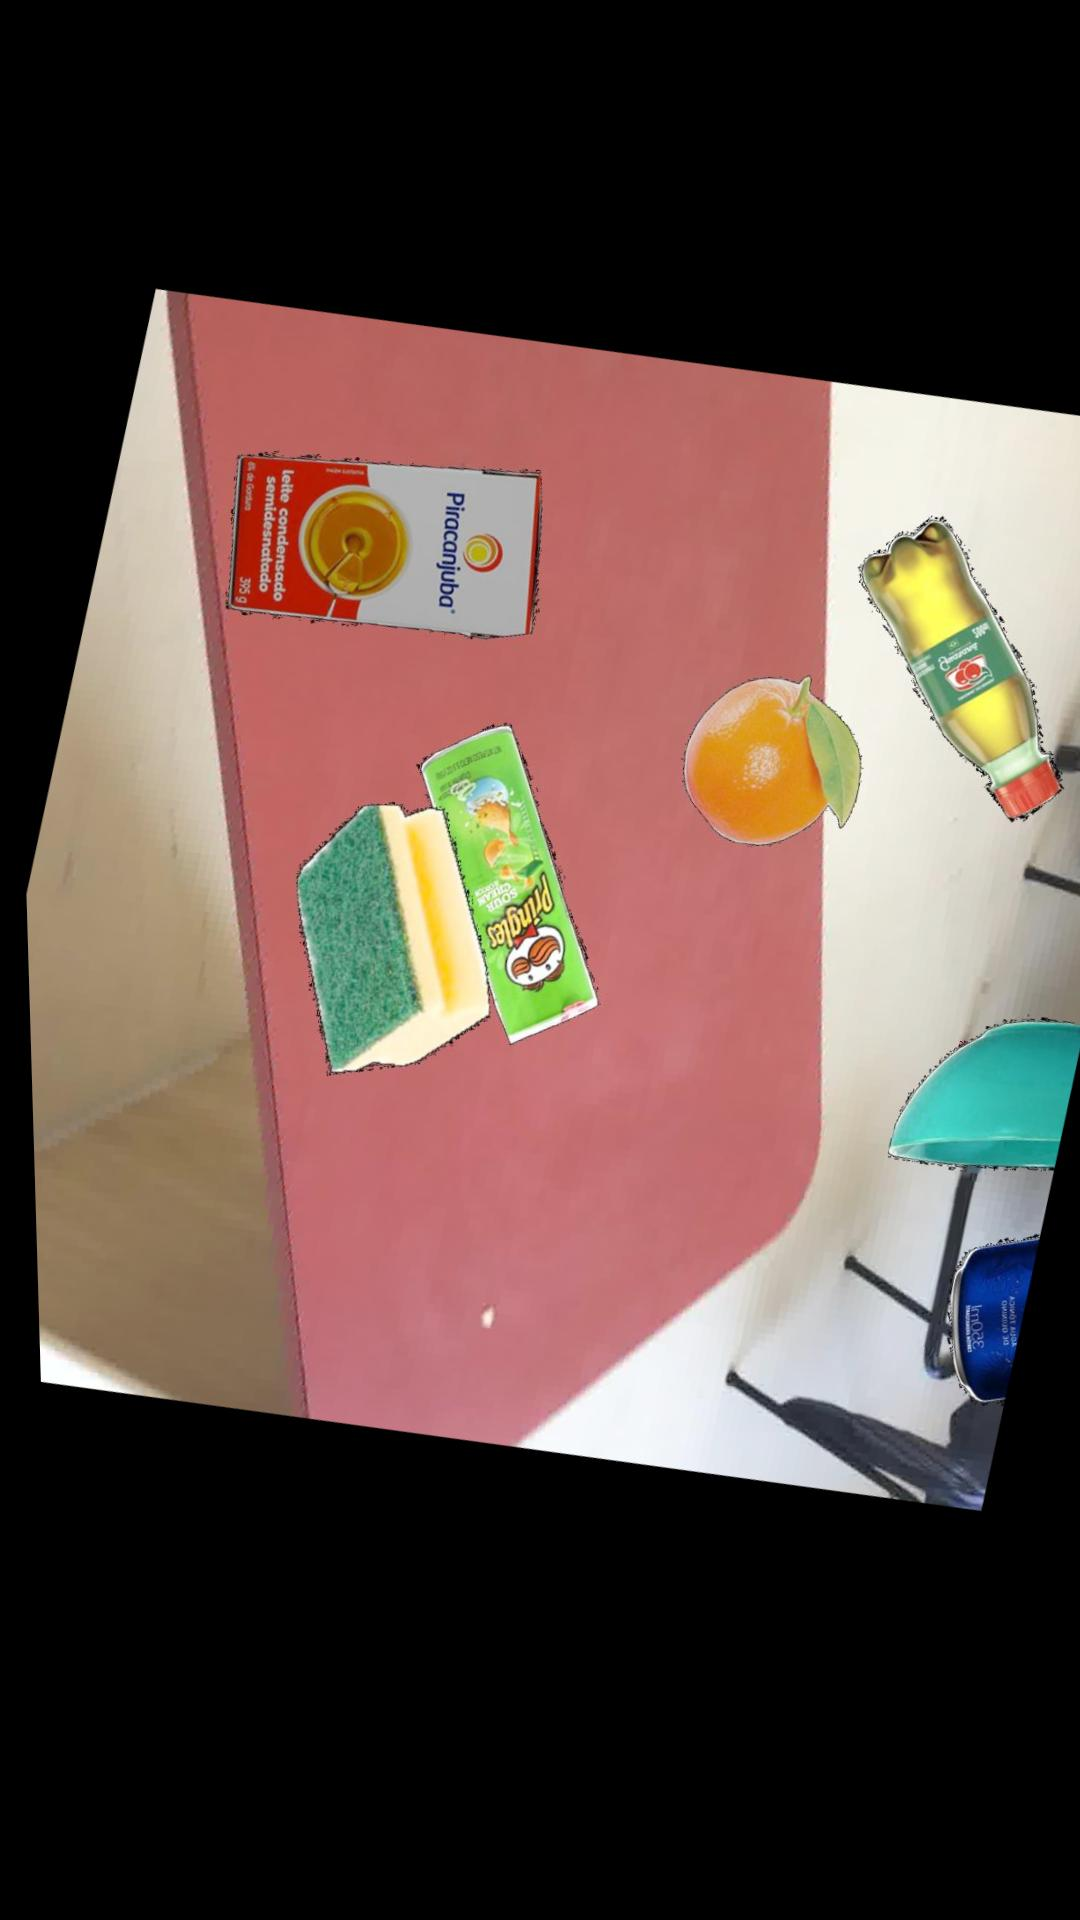bowl: (881, 1039, 1079, 1193)
guarana: (857, 537, 1059, 844)
orange: (678, 692, 857, 862)
pringles: (415, 733, 593, 1055)
sponge: (291, 810, 484, 1080)
tonic: (939, 1257, 1033, 1425)
